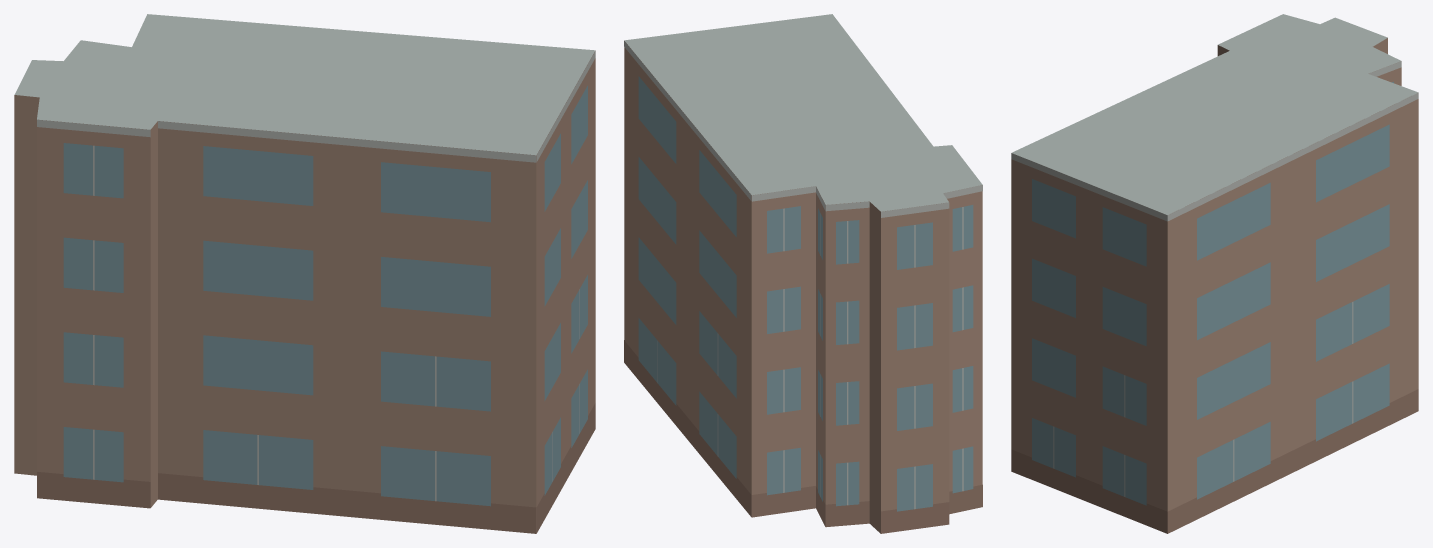
The model's file is survey-upis-32641138.glb.
3 renders of one model, left to right at view 1: azimuth 30°, elevation 25°; view 2: azimuth 150°, elevation 25°; view 3: azimuth 270°, elevation 25°, orthographic. The views are drawn at different scales.
Visible parts, largest first — view 1: survey-upis-32641138.tmp; view 2: survey-upis-32641138.tmp; view 3: survey-upis-32641138.tmp.
Boxes of the visible parts, x1=… form: survey-upis-32641138.tmp: x1=14, y1=14, x2=595, y2=533; survey-upis-32641138.tmp: x1=624, y1=14, x2=982, y2=533; survey-upis-32641138.tmp: x1=1011, y1=14, x2=1418, y2=533.
Bounding box in the file's own units: 16.81 × 12.4 × 14.38.
